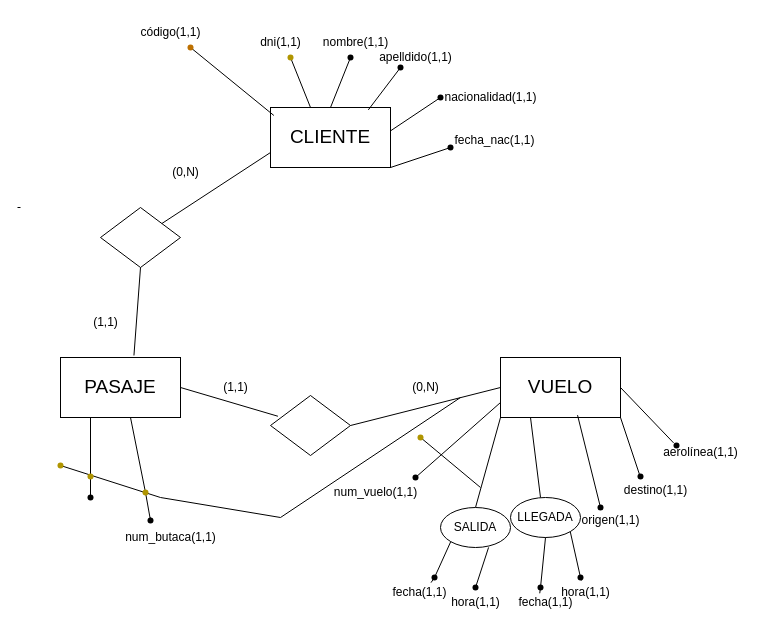
This 768x634 diagram has some shape labels left out. Here are the shapes that lost their labels. From the top down, the centre of each, then its label:
the point at 140,237: COMPRA
the point at 310,425: TIENE
the point at 90,497: num_fila(1,1)
